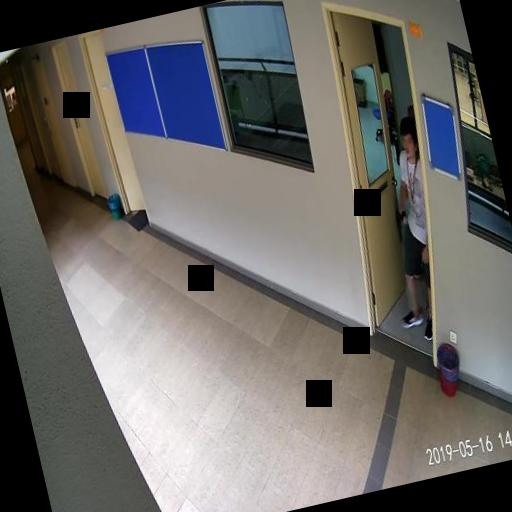Handgun: (392, 204, 410, 240)
